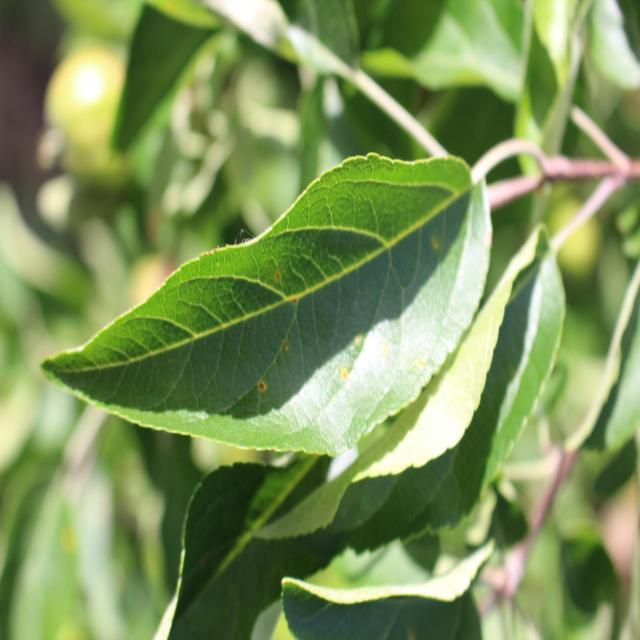Rust: (270, 248, 288, 298), (265, 333, 300, 355), (337, 360, 359, 391), (427, 225, 445, 259), (256, 374, 270, 414), (289, 290, 308, 313)
